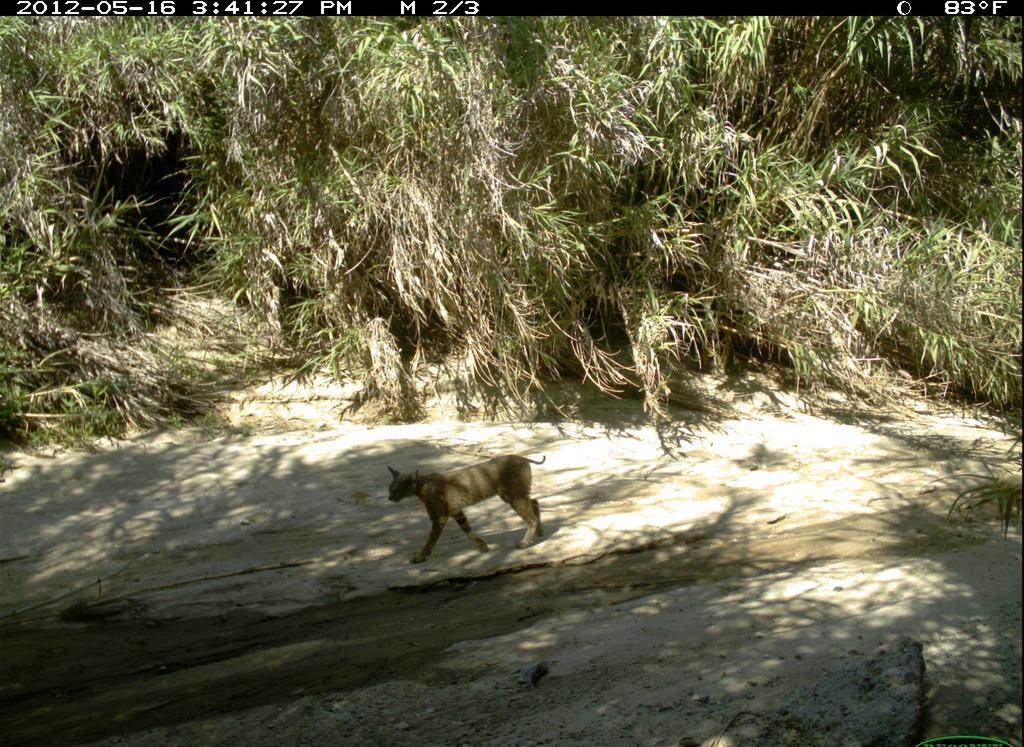bobcat: (367, 443, 573, 579)
